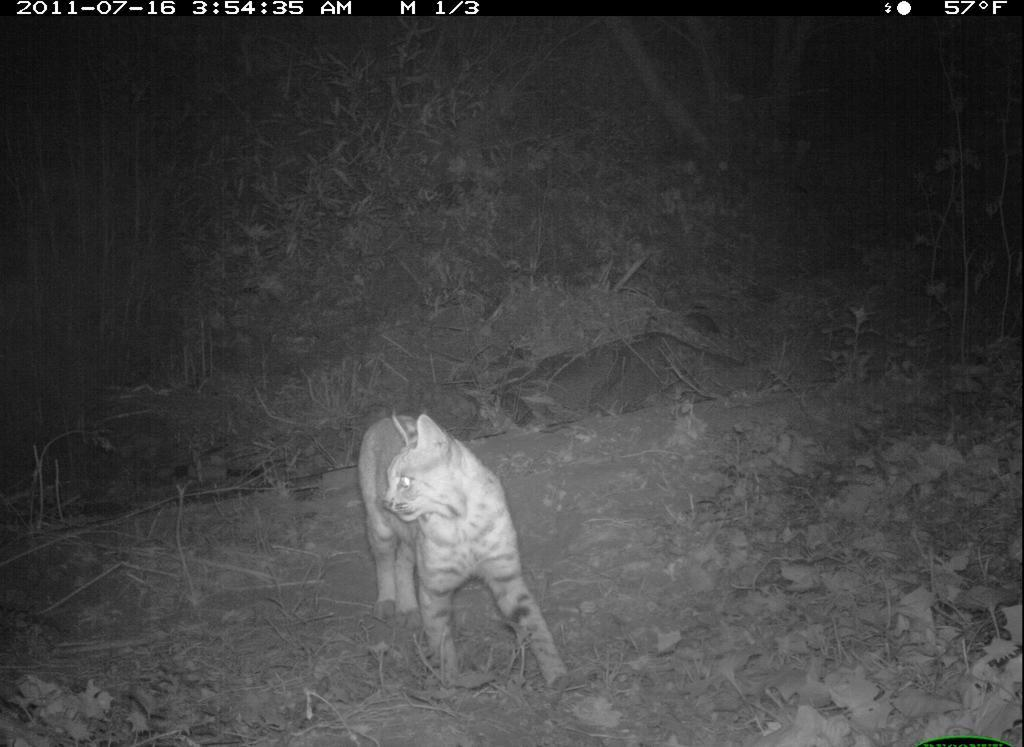bobcat: (335, 401, 582, 702)
